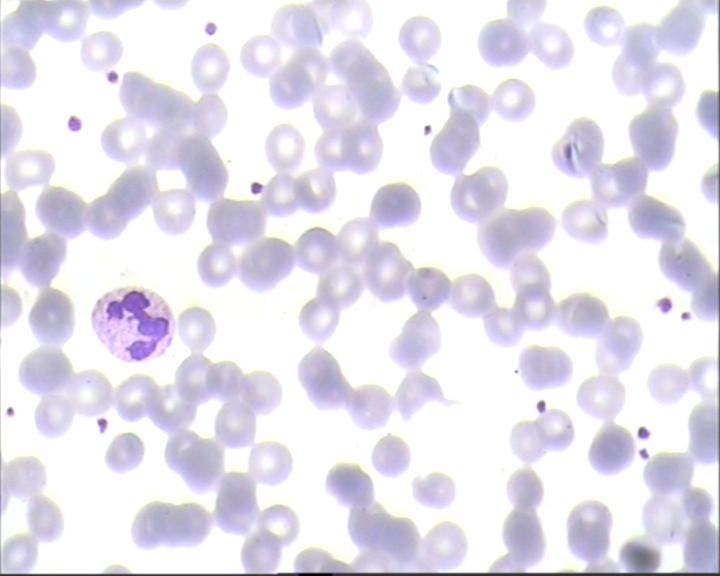neut: (84, 281, 182, 362)
